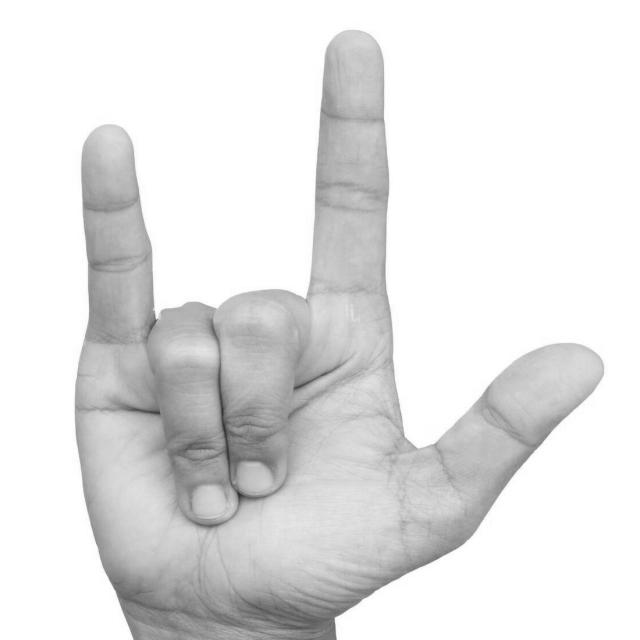i love you: (62, 19, 611, 640)
